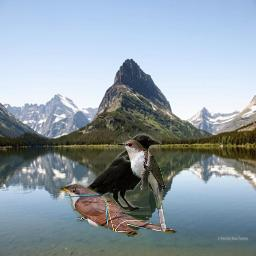Crow: (71, 132, 162, 215)
Cuckoo: (56, 181, 179, 241), (116, 139, 166, 232)
